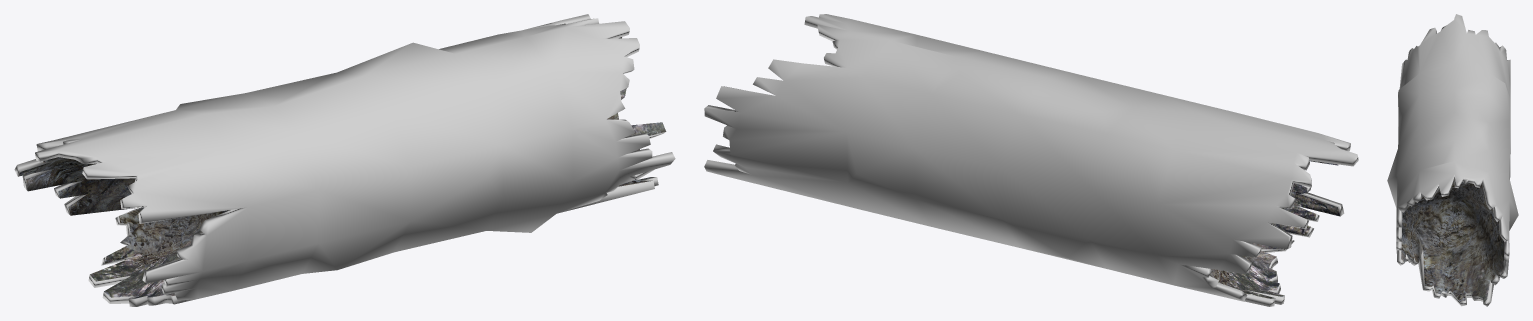
Rendered from Trunk1.fbx.
3 views of the same model, side by side, from view 1: azimuth 30°, elevation 25°; view 2: azimuth 150°, elevation 25°; view 3: azimuth 270°, elevation 25° (orthographic). The views are drawn at different scales.
Visible parts, largest first — view 1: polySurface1; view 2: polySurface1; view 3: polySurface1.
Part boxes in pixels (bbox=[...]): polySurface1: bbox=[14, 14, 675, 306]; polySurface1: bbox=[704, 14, 1358, 306]; polySurface1: bbox=[1387, 14, 1518, 306].
Bounding box in the file's own units: 3.9 × 1.02 × 1.11.
